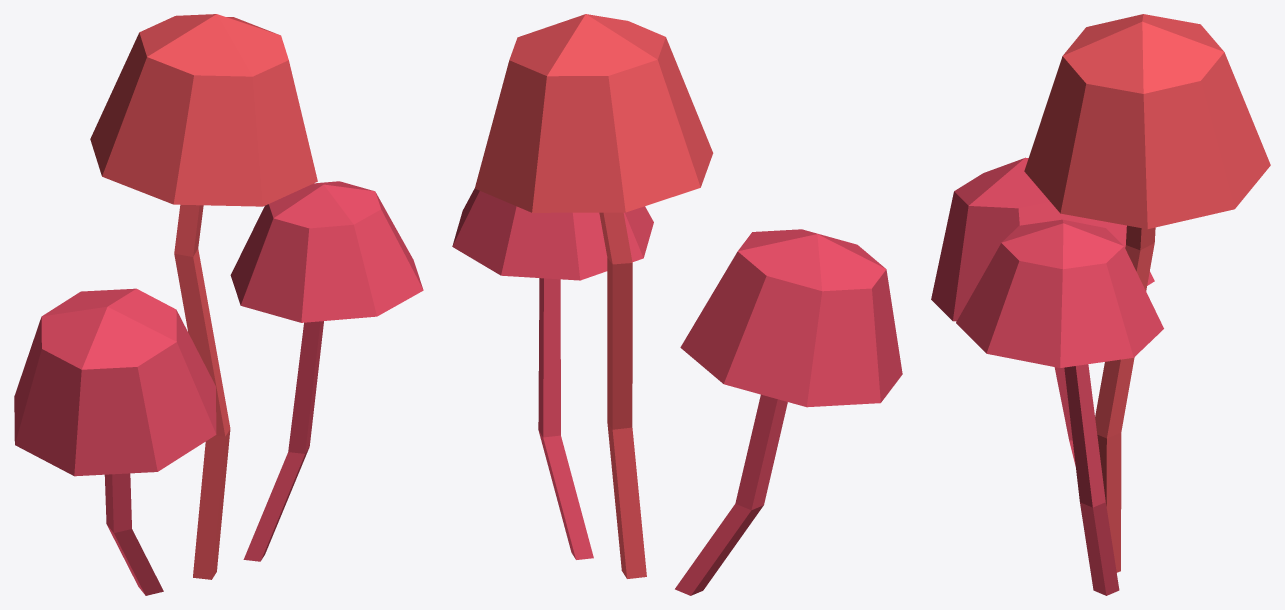
File: Mushroom_c_05.fbx
3 views of the same model, side by side, from view 1: azimuth 30°, elevation 25°; view 2: azimuth 150°, elevation 25°; view 3: azimuth 270°, elevation 25° (orthographic). The views are drawn at different scales.
Visible parts, largest first — view 1: Mushroom_c_05; view 2: Mushroom_c_05; view 3: Mushroom_c_05.
Boxes of the visible parts, <box> form: Mushroom_c_05: <box>14,14,423,595</box>; Mushroom_c_05: <box>452,14,902,595</box>; Mushroom_c_05: <box>931,14,1270,595</box>.
Size of the model in its own units: 28.75 by 37.44 by 20.3.
